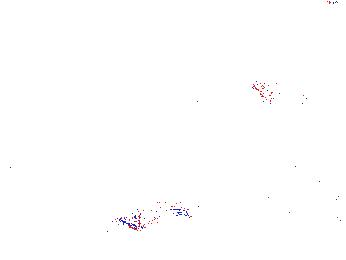glassfish: (248, 78, 338, 129), (111, 200, 192, 229)
redtail glassfish: (248, 1, 311, 25)
